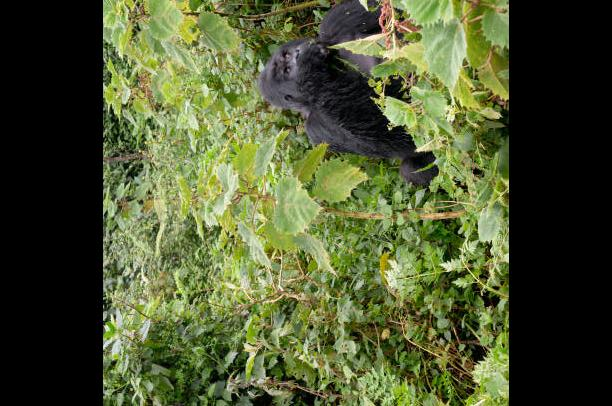goriile_montagne: (252, 0, 410, 157)
